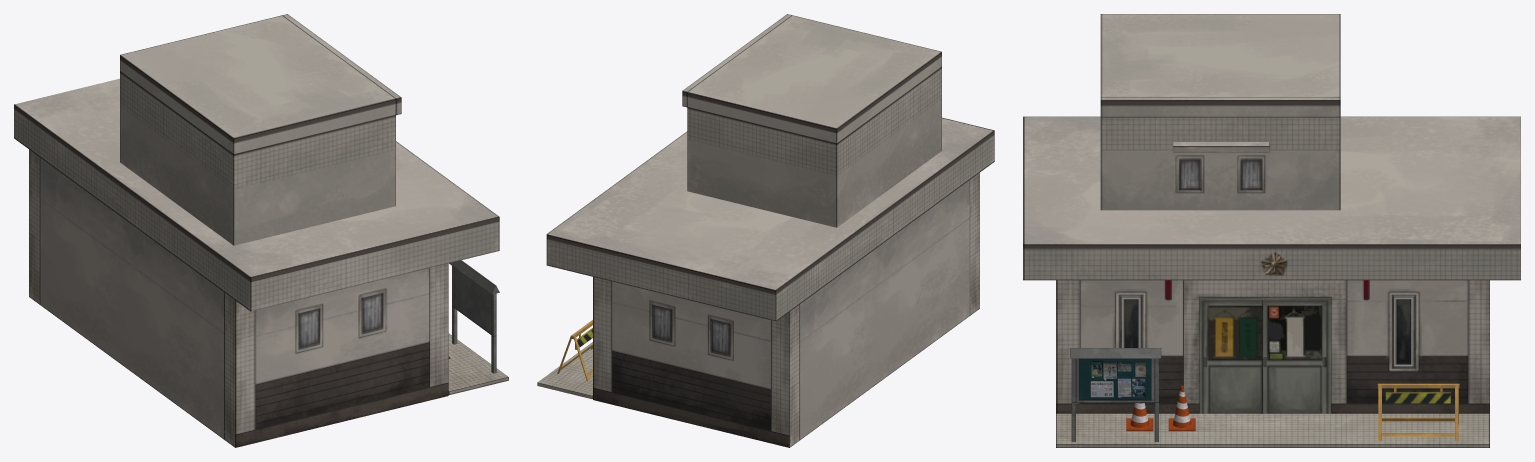
The model's file is Police box02.fbx.
3 renders of one model, left to right at view 1: azimuth 30°, elevation 25°; view 2: azimuth 150°, elevation 25°; view 3: azimuth 270°, elevation 25°, orthographic. The views are drawn at different scales.
Parts seen in each view (by area): view 1: Cube.046, Cube.229, Cube.228, Cube.231, Cube.232; view 2: Cube.046, Cube.229, Cube.228, Cube.232, Cube.008; view 3: Cube.228, Cube.046, Cube.229, Cube.232, Cube.231, Cube.008, Cube.003, Cube.010, Cube.009.
Boxes of the visible parts, x1,y1,x2,y2 form: Cube.046: [29, 149, 448, 447]; Cube.229: [120, 14, 401, 245]; Cube.228: [14, 78, 499, 311]; Cube.231: [449, 260, 499, 373]; Cube.232: [448, 333, 508, 394]; Cube.046: [593, 173, 979, 447]; Cube.229: [682, 14, 941, 227]; Cube.228: [546, 117, 994, 321]; Cube.232: [537, 342, 592, 398]; Cube.008: [557, 320, 592, 381]; Cube.228: [1023, 116, 1520, 280]; Cube.046: [1056, 280, 1489, 413]; Cube.229: [1100, 14, 1340, 210]; Cube.232: [1056, 413, 1489, 447]; Cube.231: [1070, 348, 1161, 441]; Cube.008: [1377, 383, 1459, 440]; Cube.003: [1173, 142, 1269, 152]; Cube.010: [1168, 385, 1195, 431]; Cube.009: [1126, 403, 1153, 431].
Bounding box in the file's own units: 895 × 903 × 1340.
